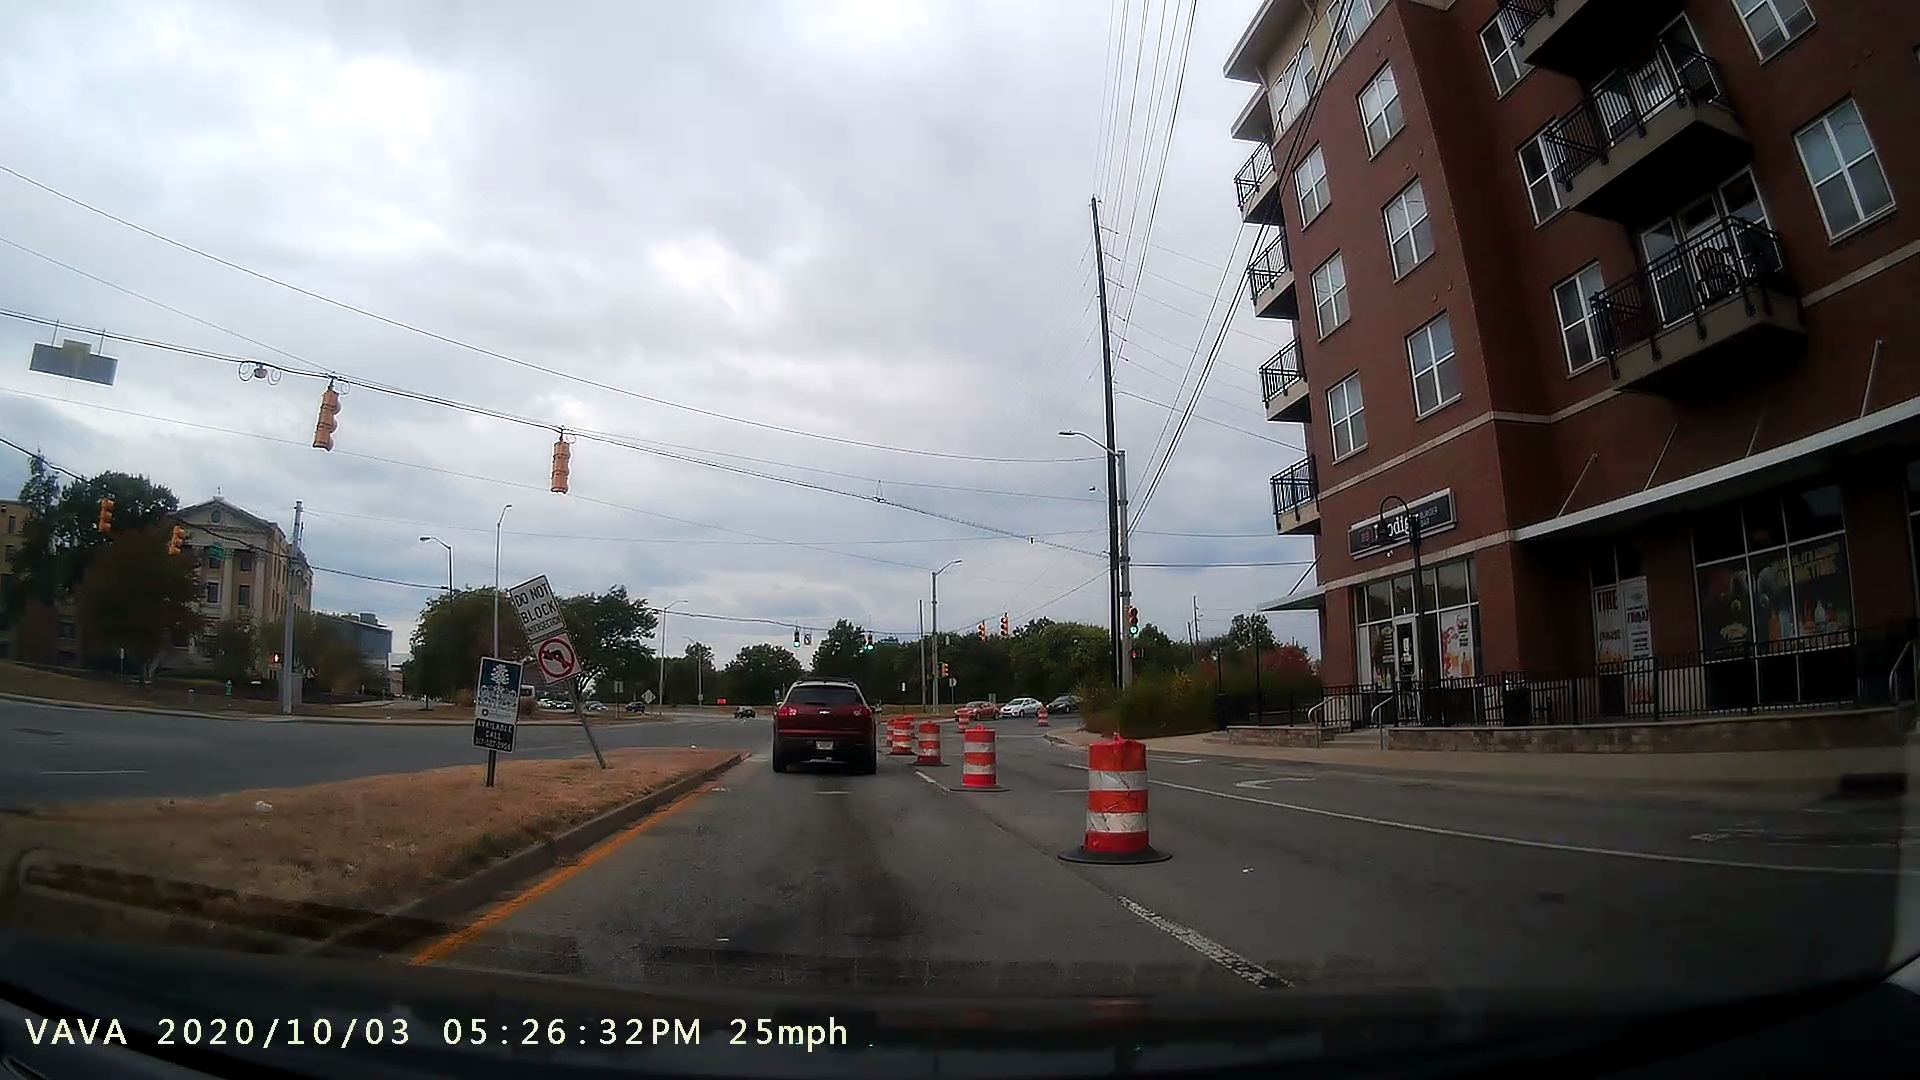const_barrel: (1050, 732, 1189, 869), (947, 719, 1009, 793), (907, 708, 949, 773)
